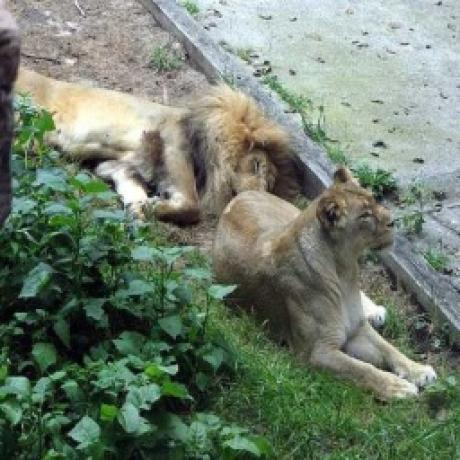Lion: (218, 168, 446, 409), (10, 35, 304, 211)
